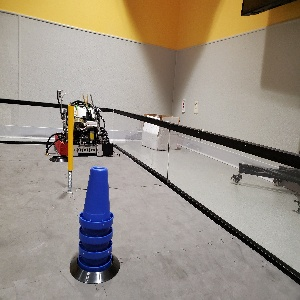Blue_4: (77, 164, 113, 270)
